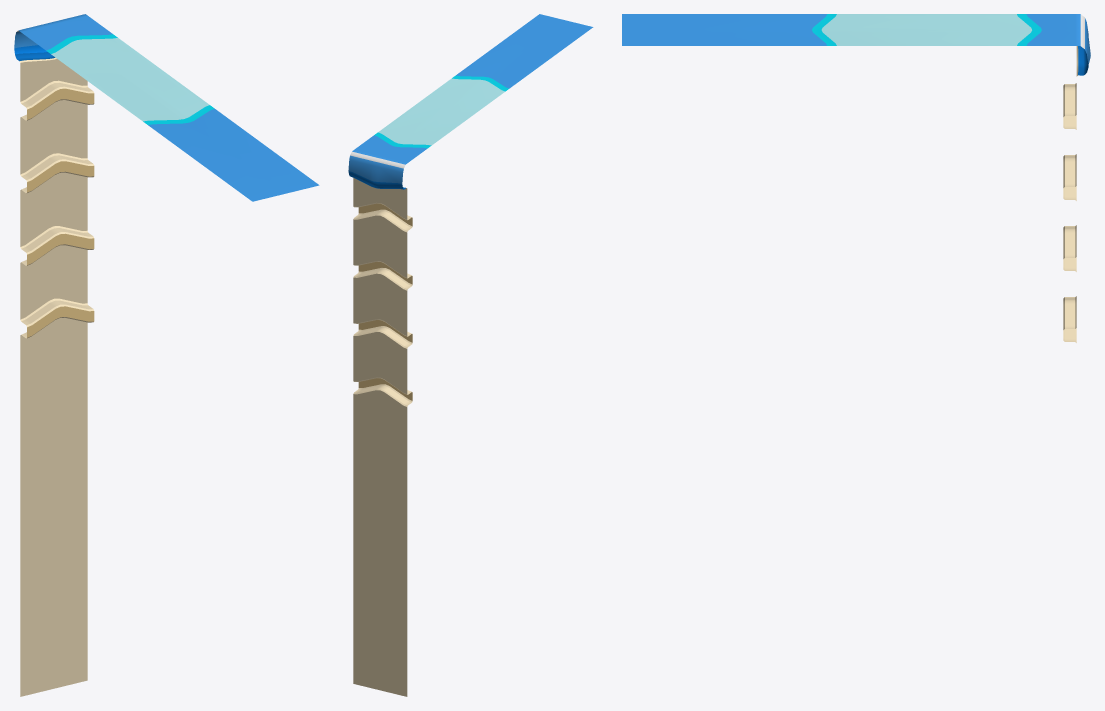
Rendered from v2_Ground.fbx.
3 renders of one model, left to right at view 1: azimuth 30°, elevation 25°; view 2: azimuth 150°, elevation 25°; view 3: azimuth 270°, elevation 25°, orthographic. The views are drawn at different scales.
Visible parts, largest first — view 1: v2_Ground; view 2: v2_Ground; view 3: v2_Ground.
Part boxes in pixels (x1=…): v2_Ground: x1=14, y1=14, x2=319, y2=696; v2_Ground: x1=348, y1=14, x2=593, y2=696; v2_Ground: x1=622, y1=14, x2=1090, y2=342.
Bounding box in the file's own units: 200 × 1892 × 1235.
